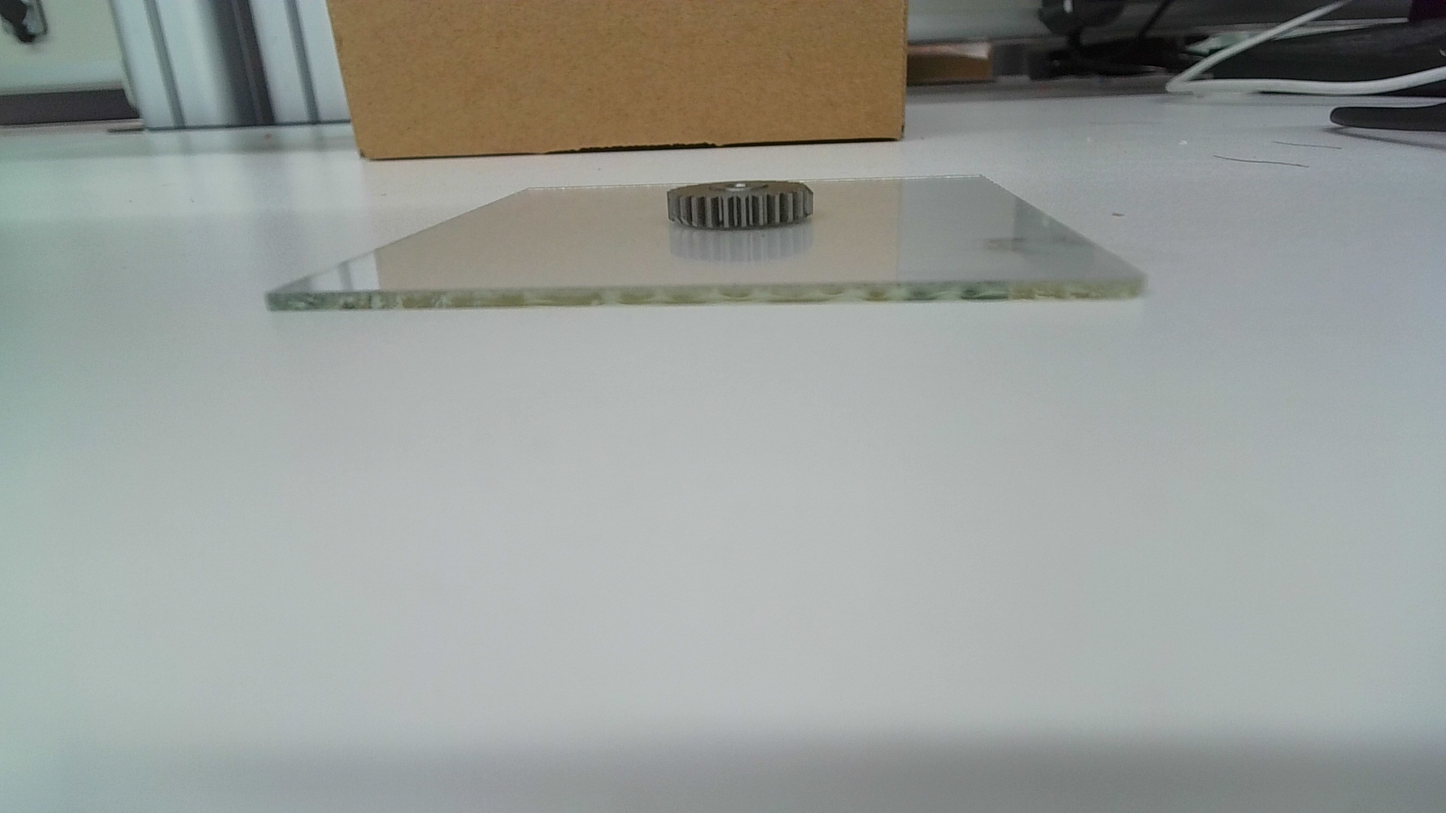gear: (664, 180, 819, 231)
